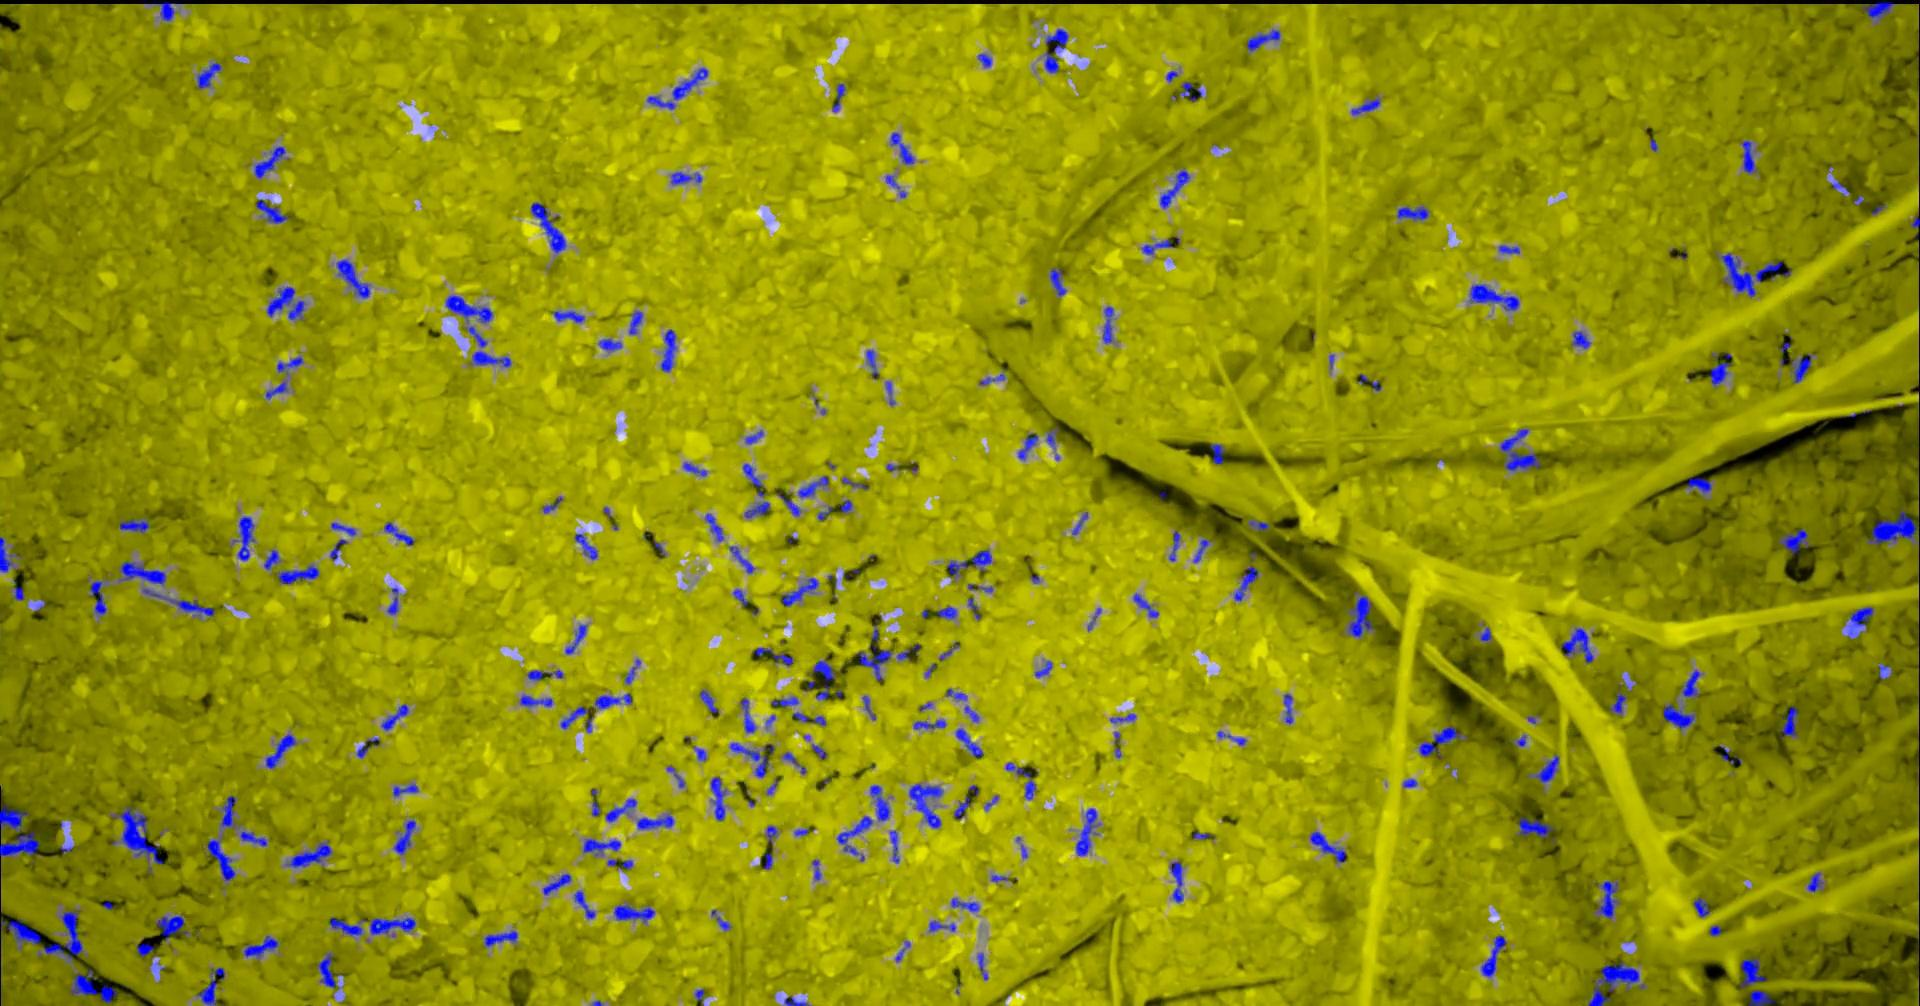ant: (444, 295, 510, 367), (1719, 251, 1790, 296), (110, 805, 163, 864), (646, 67, 707, 109), (1587, 962, 1644, 1005), (43, 909, 83, 962), (856, 622, 891, 680), (142, 588, 215, 616), (0, 804, 39, 855), (1865, 509, 1919, 544), (530, 202, 566, 251), (1500, 428, 1540, 470), (69, 969, 116, 1005), (908, 782, 942, 827), (1418, 727, 1467, 757), (836, 815, 872, 855), (729, 742, 768, 777), (1469, 283, 1519, 310), (337, 259, 370, 297), (265, 286, 303, 319), (284, 841, 331, 868), (1309, 831, 1346, 862), (1159, 169, 1189, 208), (206, 840, 234, 880), (0, 920, 41, 948), (1559, 627, 1592, 662), (1004, 762, 1035, 799), (780, 577, 817, 606), (1076, 808, 1098, 855), (1044, 28, 1068, 72), (196, 967, 223, 1005), (119, 561, 165, 584), (1481, 935, 1506, 976), (1347, 594, 1371, 636), (265, 734, 295, 768), (253, 146, 284, 177), (1779, 353, 1811, 384), (232, 516, 254, 560), (811, 659, 834, 699), (1662, 702, 1695, 729), (1517, 815, 1556, 838), (1528, 754, 1558, 782), (1738, 956, 1766, 987), (1777, 528, 1810, 554), (1233, 567, 1258, 600), (155, 915, 188, 940), (255, 199, 290, 224), (1596, 880, 1618, 918), (277, 564, 319, 583), (1848, 606, 1872, 639), (392, 819, 415, 854), (243, 935, 278, 956), (370, 917, 415, 934), (869, 784, 889, 821), (381, 702, 408, 730), (955, 728, 982, 756), (890, 132, 913, 164), (742, 464, 764, 495), (754, 647, 792, 666), (604, 798, 636, 821), (613, 904, 654, 922), (1246, 29, 1279, 51), (1709, 352, 1731, 385), (776, 486, 800, 516), (143, 0, 178, 20), (383, 522, 414, 545), (728, 546, 753, 573), (328, 917, 366, 935), (317, 951, 337, 987), (797, 475, 828, 497), (564, 624, 585, 654), (196, 62, 221, 88), (660, 329, 676, 371), (573, 890, 596, 918), (582, 838, 620, 855), (710, 776, 724, 821), (1133, 593, 1158, 617), (89, 580, 105, 617), (1862, 0, 1893, 19), (560, 706, 588, 728), (543, 873, 571, 894), (0, 536, 17, 572), (574, 533, 597, 559), (636, 814, 674, 829), (1170, 861, 1183, 902), (483, 930, 517, 946), (1780, 706, 1798, 738), (703, 513, 723, 541), (594, 694, 632, 708), (220, 795, 236, 827), (740, 697, 756, 732), (1017, 433, 1037, 459), (1681, 669, 1700, 696), (1741, 140, 1756, 173), (1351, 97, 1379, 114), (1049, 267, 1065, 296), (276, 356, 302, 373), (1142, 239, 1172, 254), (356, 737, 378, 757), (1396, 206, 1429, 220), (1217, 730, 1246, 746), (1178, 81, 1201, 100), (971, 549, 990, 572), (698, 690, 717, 713), (744, 500, 770, 517), (792, 713, 825, 725), (119, 518, 149, 532), (897, 643, 919, 661), (239, 831, 265, 846), (552, 310, 584, 323), (623, 659, 640, 683), (830, 83, 844, 111), (950, 897, 978, 911), (670, 171, 701, 184), (265, 381, 287, 399), (329, 539, 347, 560), (1719, 746, 1741, 763), (1609, 690, 1625, 713), (952, 795, 969, 818), (1102, 306, 1112, 343), (1749, 989, 1773, 1005), (521, 695, 552, 706), (527, 669, 563, 680), (1691, 897, 1709, 917), (979, 370, 1004, 384), (1688, 478, 1710, 493), (1072, 511, 1087, 533), (1192, 539, 1208, 561), (946, 560, 969, 575), (682, 462, 706, 476), (1209, 443, 1225, 464), (263, 549, 279, 569), (330, 522, 356, 535), (913, 719, 945, 729), (392, 784, 418, 796), (629, 311, 643, 334), (1571, 332, 1590, 348), (542, 495, 561, 512), (136, 937, 152, 956), (862, 695, 875, 719), (866, 349, 877, 376), (386, 587, 397, 614), (928, 920, 955, 931), (968, 597, 982, 619), (1168, 531, 1178, 560), (1034, 661, 1051, 677), (889, 829, 898, 862), (598, 338, 621, 351), (936, 605, 956, 619), (977, 951, 987, 979), (771, 696, 797, 706), (1109, 713, 1135, 723), (1807, 873, 1822, 890), (1283, 694, 1291, 723), (1045, 426, 1058, 446), (766, 826, 776, 851), (731, 589, 748, 605), (590, 788, 599, 815), (945, 688, 966, 700), (744, 431, 763, 443), (783, 996, 809, 1005), (1248, 520, 1269, 530), (13, 579, 23, 600), (1114, 730, 1121, 757), (977, 53, 990, 67), (811, 744, 825, 758), (811, 859, 820, 879), (759, 852, 771, 868), (1479, 627, 1491, 641), (1498, 245, 1519, 253), (695, 988, 703, 1005), (839, 499, 851, 512), (1708, 925, 1721, 935)
